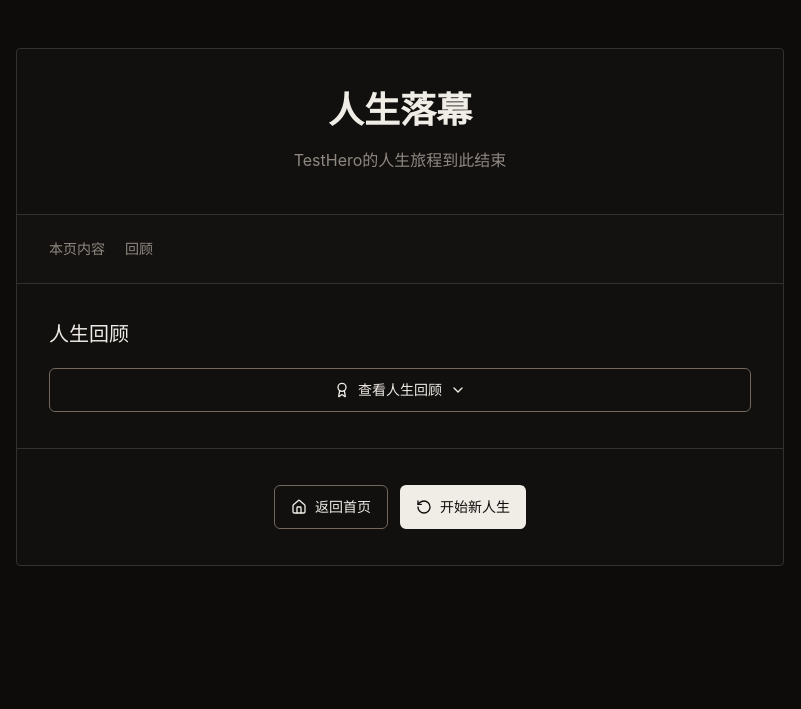
Scenario: EndingPage › With ending data › omits a missing decisions count from an otherwise valid share preview
Click the button "查看人生回顾" at (400, 390), box [49,368,751,412]
(page scrolled)
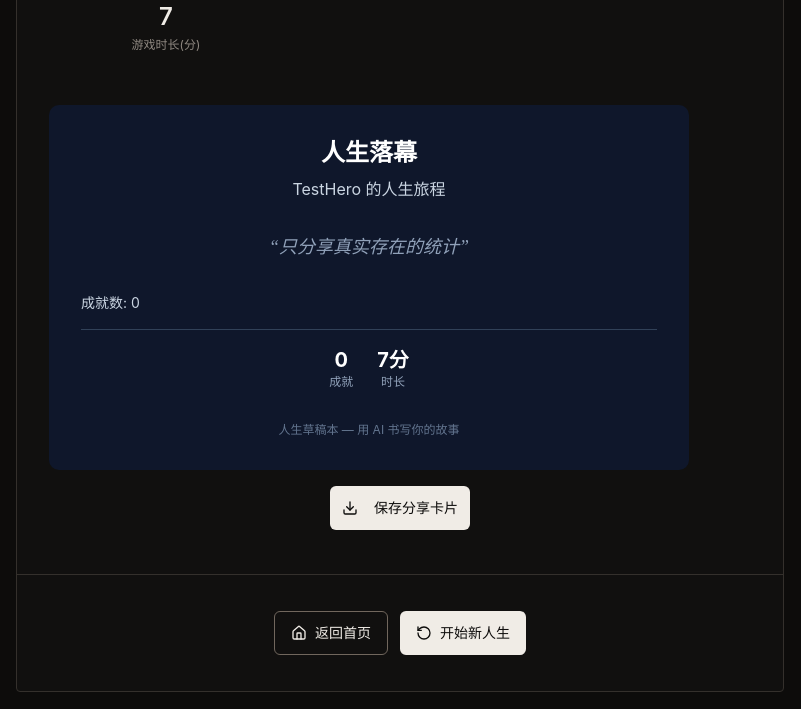
Now the text "游戏时长(分)" is shown, box [132,37,200,52]
Now the text "7分" is shown, box [377,346,409,374]
